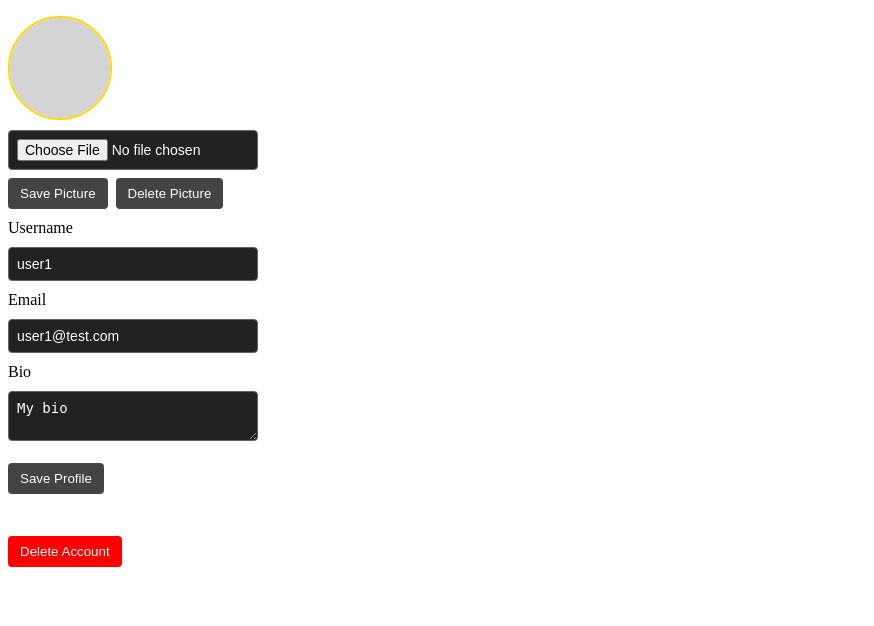
Test: ProfileSidebar component › handles delete account failure
Expected: the 1st field showing "user1" is shown, left=8, top=247, right=258, bottom=281
Click the button "Delete Account" at (65, 551), box left=8, top=536, right=122, bottom=567
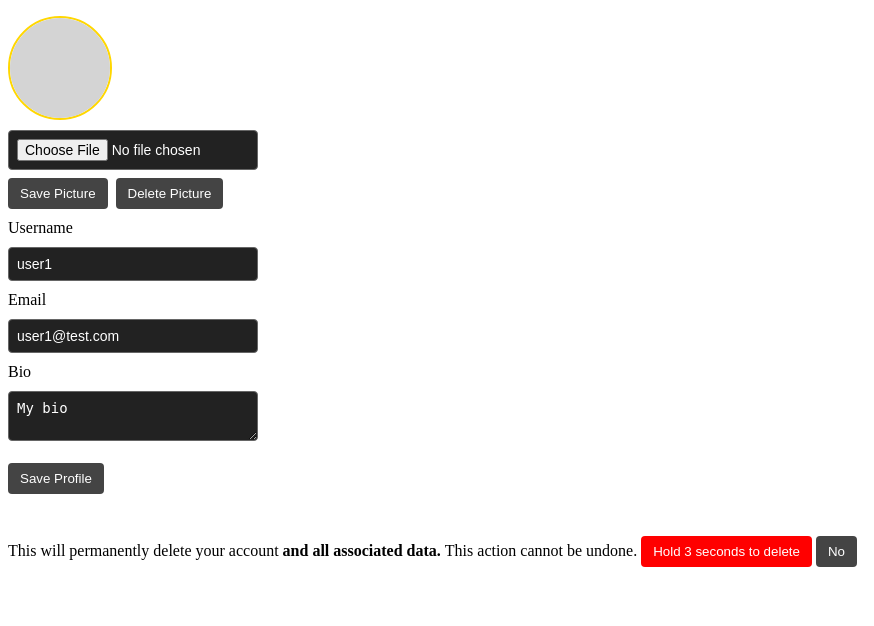
Press the mouse on the button "Hold 3 seconds to delete" at (727, 551), box left=641, top=536, right=812, bottom=567
Wait 3000 ms
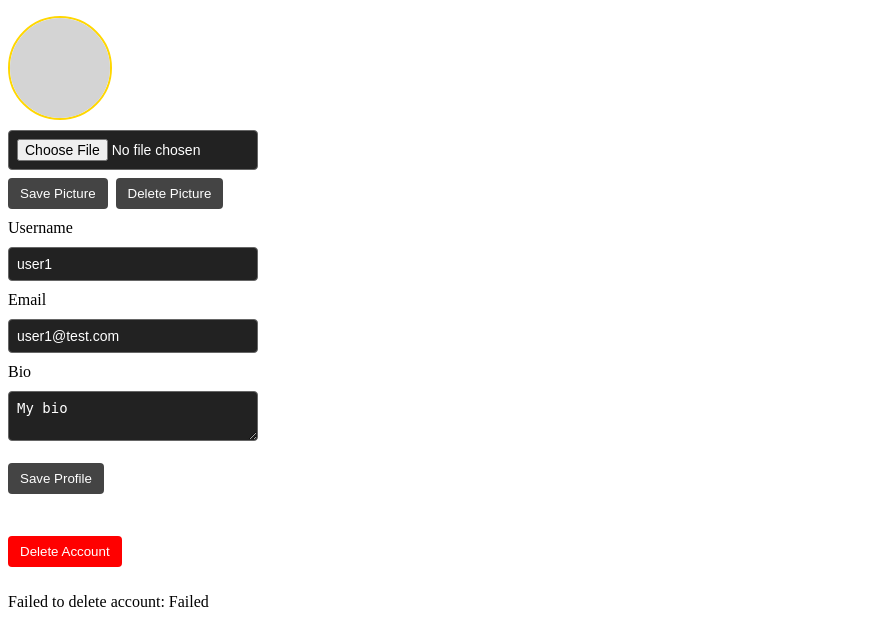
Result: the text "Failed to delete account: Failed" is shown at left=8, top=593, right=209, bottom=610
